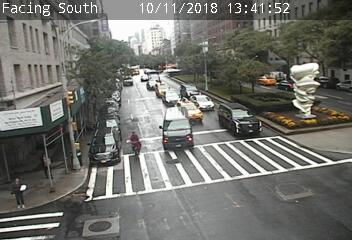car: (218, 103, 263, 136), (163, 107, 193, 149), (89, 128, 120, 164), (175, 100, 203, 122), (189, 95, 215, 111), (180, 84, 201, 100), (162, 90, 181, 107), (276, 79, 296, 91), (156, 83, 172, 97), (255, 76, 277, 86), (147, 80, 160, 90)
